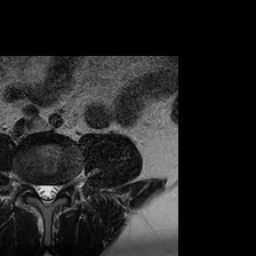CCS_normal: (43, 175, 49, 207)
LFS_stenosis: (57, 172, 66, 196)
LLS_normal: (49, 178, 57, 203)
RFS_stenosis: (27, 173, 36, 196)
RLS_normal: (36, 178, 43, 203)
